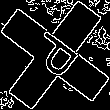P_SE: (24, 25, 86, 85)
